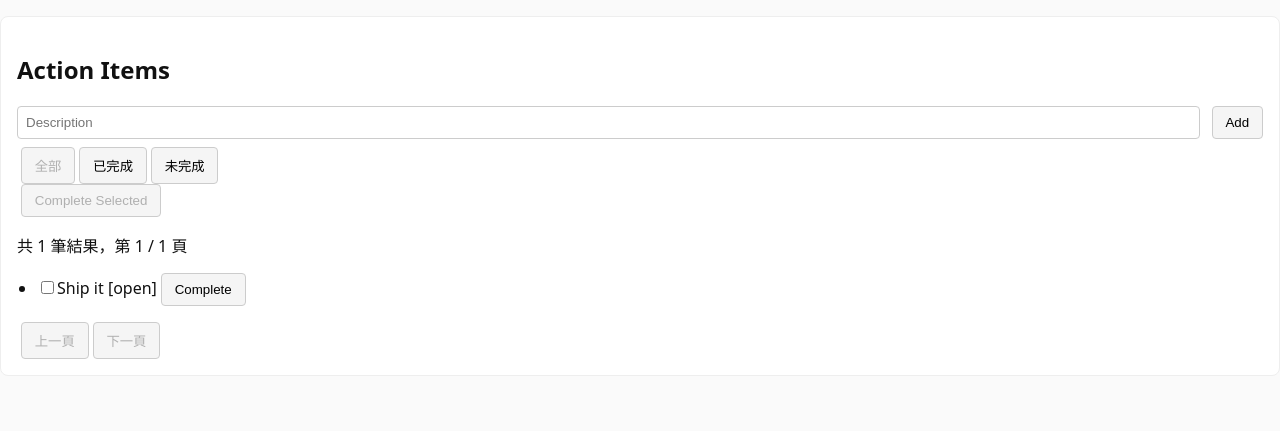
Test: ActionItemsSection › shows an error and does not clear selection when bulk-complete fails
Expected: the list item "Ship it [open] Complete" is shown, [41,273,246,306]
Click the checkbox named "Select Ship it" at {"x": 48, "y": 287}, box [41,281,54,294]
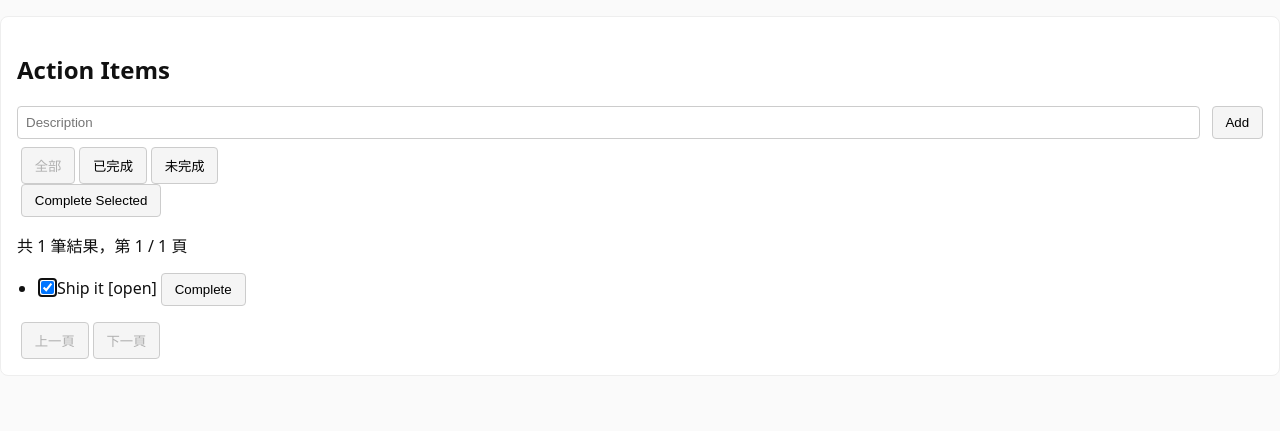
Click the button "Complete Selected" at {"x": 91, "y": 200}, box [21,184,161,217]
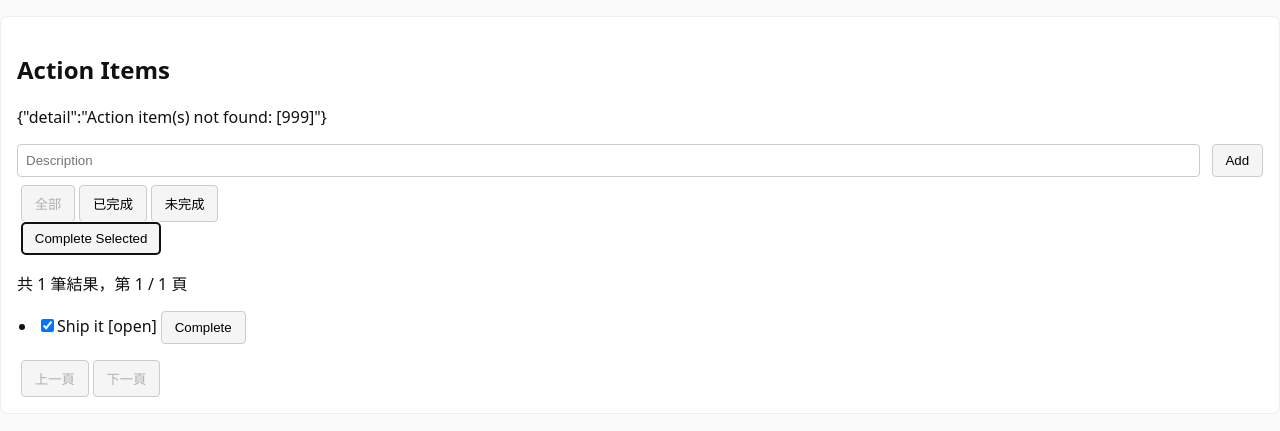
Now the message "{\"detail\":\"Action item(s) not found: [999]\"}" is shown, box [17,106,327,128]
